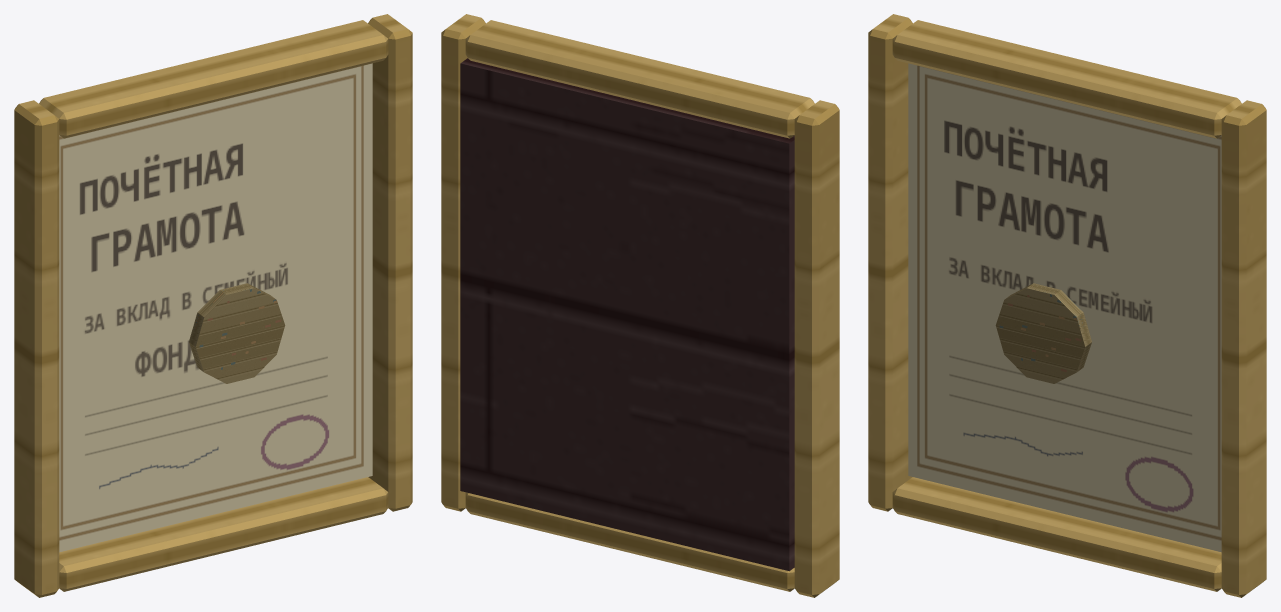
The model's file is MD_129_FramedAward.fbx.
3 views of the same model, side by side, from view 1: azimuth 30°, elevation 25°; view 2: azimuth 150°, elevation 25°; view 3: azimuth 330°, elevation 25° (orthographic).
Parts seen in each view (by area): view 1: MD_129_FramedAward_award_frame_inset, MD_129_FramedAward_award_frame_upright, MD_129_FramedAward_award_frame_upright.001, MD_129_FramedAward_award_frame_cross.001, MD_129_FramedAward_award_frame_cross, MD_129_FramedAward_award_medal; view 2: MD_129_FramedAward_award_frame_inset, MD_129_FramedAward_award_frame_upright, MD_129_FramedAward_award_frame_cross.001, MD_129_FramedAward_award_frame_upright.001, MD_129_FramedAward_award_frame_cross; view 3: MD_129_FramedAward_award_frame_inset, MD_129_FramedAward_award_frame_upright.001, MD_129_FramedAward_award_frame_upright, MD_129_FramedAward_award_frame_cross.001, MD_129_FramedAward_award_frame_cross, MD_129_FramedAward_award_medal.
Boxes of the visible parts, <box> form: MD_129_FramedAward_award_frame_inset: <box>59,63,372,552</box>; MD_129_FramedAward_award_frame_upright: <box>14,100,59,597</box>; MD_129_FramedAward_award_frame_upright.001: <box>368,14,412,511</box>; MD_129_FramedAward_award_frame_cross.001: <box>39,20,388,138</box>; MD_129_FramedAward_award_frame_cross: <box>59,477,388,591</box>; MD_129_FramedAward_award_medal: <box>189,283,285,383</box>; MD_129_FramedAward_award_frame_inset: <box>460,58,794,571</box>; MD_129_FramedAward_award_frame_upright: <box>794,100,839,597</box>; MD_129_FramedAward_award_frame_cross.001: <box>465,20,814,138</box>; MD_129_FramedAward_award_frame_upright.001: <box>441,14,485,511</box>; MD_129_FramedAward_award_frame_cross: <box>465,492,794,591</box>; MD_129_FramedAward_award_frame_inset: <box>908,63,1221,552</box>; MD_129_FramedAward_award_frame_upright.001: <box>1221,100,1266,597</box>; MD_129_FramedAward_award_frame_upright: <box>868,14,912,511</box>; MD_129_FramedAward_award_frame_cross.001: <box>892,20,1241,138</box>; MD_129_FramedAward_award_frame_cross: <box>892,477,1221,591</box>; MD_129_FramedAward_award_medal: <box>995,283,1091,383</box>.
Size of the model in its own units: 0.38 by 0.46 by 0.074.
Materials: 4 (4 with a texture image).
